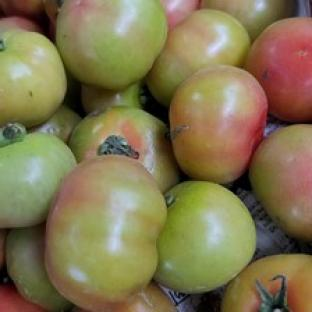Tomato: (45, 155, 167, 311), (154, 180, 256, 293), (169, 66, 267, 183), (147, 9, 250, 107), (69, 106, 181, 190), (0, 124, 76, 228), (250, 124, 311, 242), (244, 17, 311, 122), (0, 30, 66, 126), (6, 223, 72, 311), (222, 254, 311, 311), (28, 104, 82, 143), (112, 280, 176, 311), (81, 83, 143, 114), (0, 283, 45, 311), (0, 16, 44, 34), (0, 229, 8, 270)
